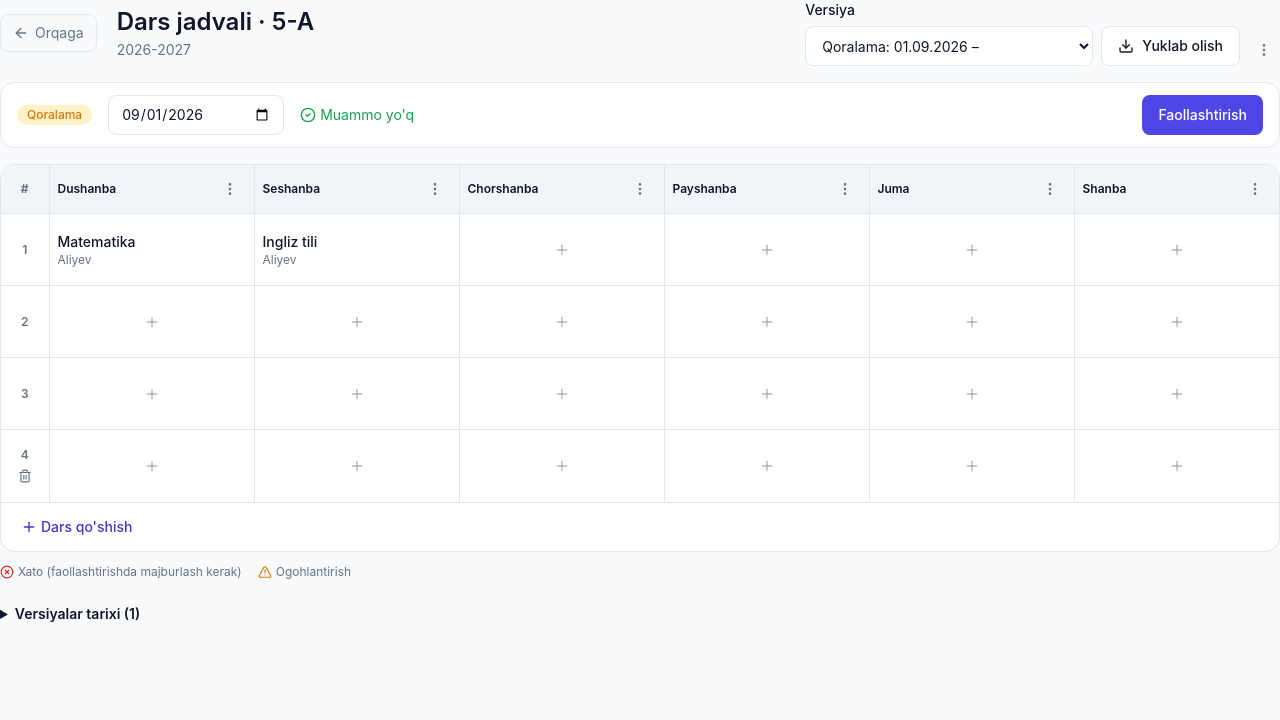
Test: ClassTimetableView: muammolar › katak oynasi: band o'qituvchi belgilanadi, jonli xato bir marta chiqadi
The image size is (1280, 720).
Click the button with test id "cell-3-1": (562, 250) 460,214 -> 664,285
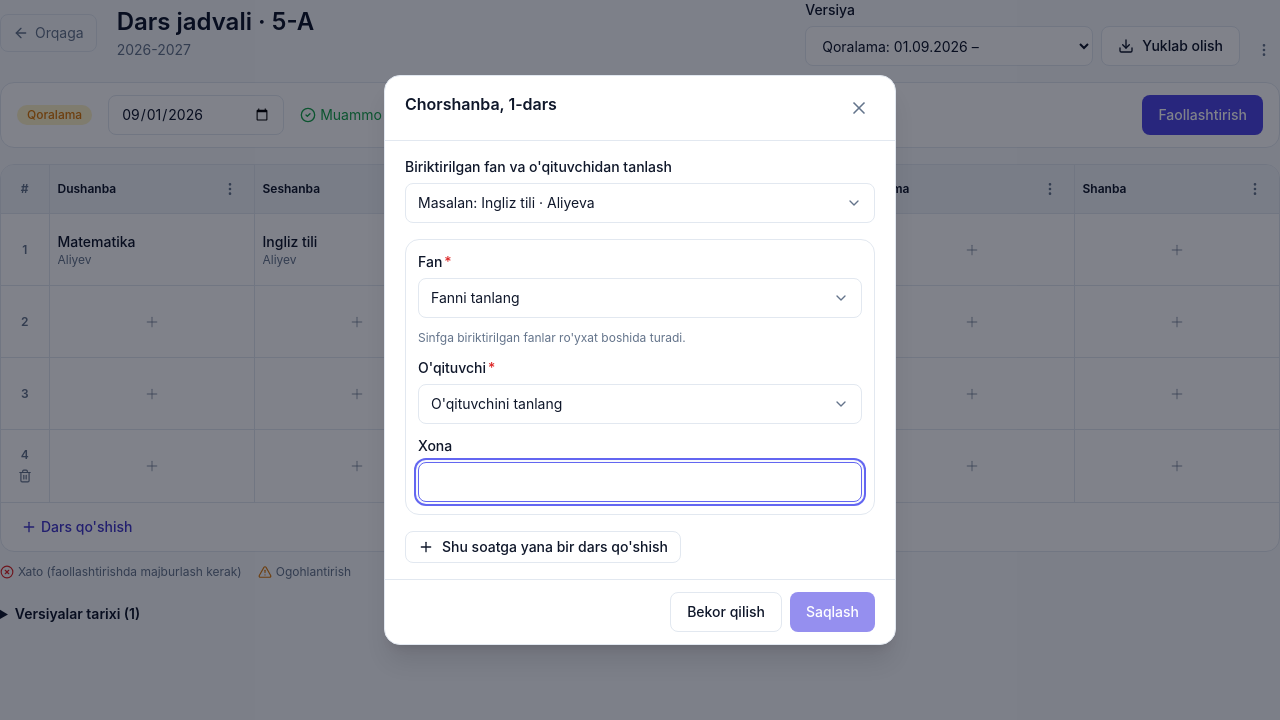
Click the dropdown labelled "Fanni tanlang": (475, 298) 418,278 -> 862,318
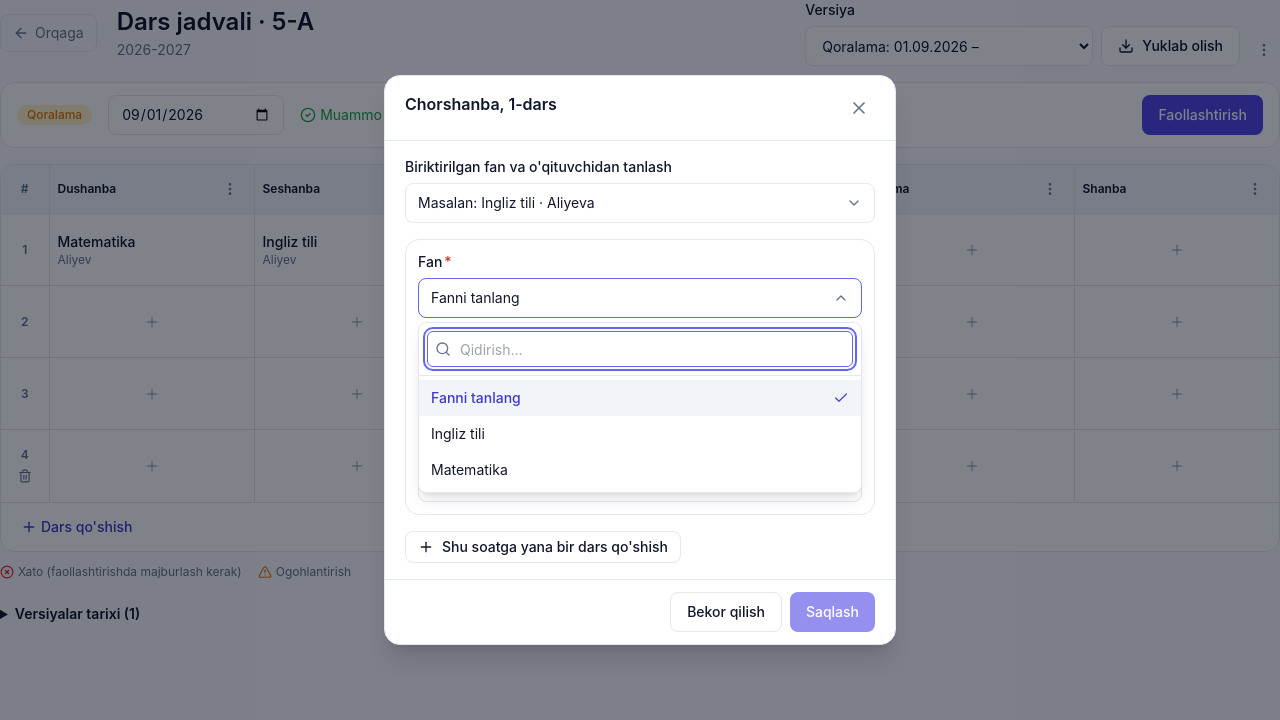
Click the option "Ingliz tili": (458, 434) 431,425 -> 485,442
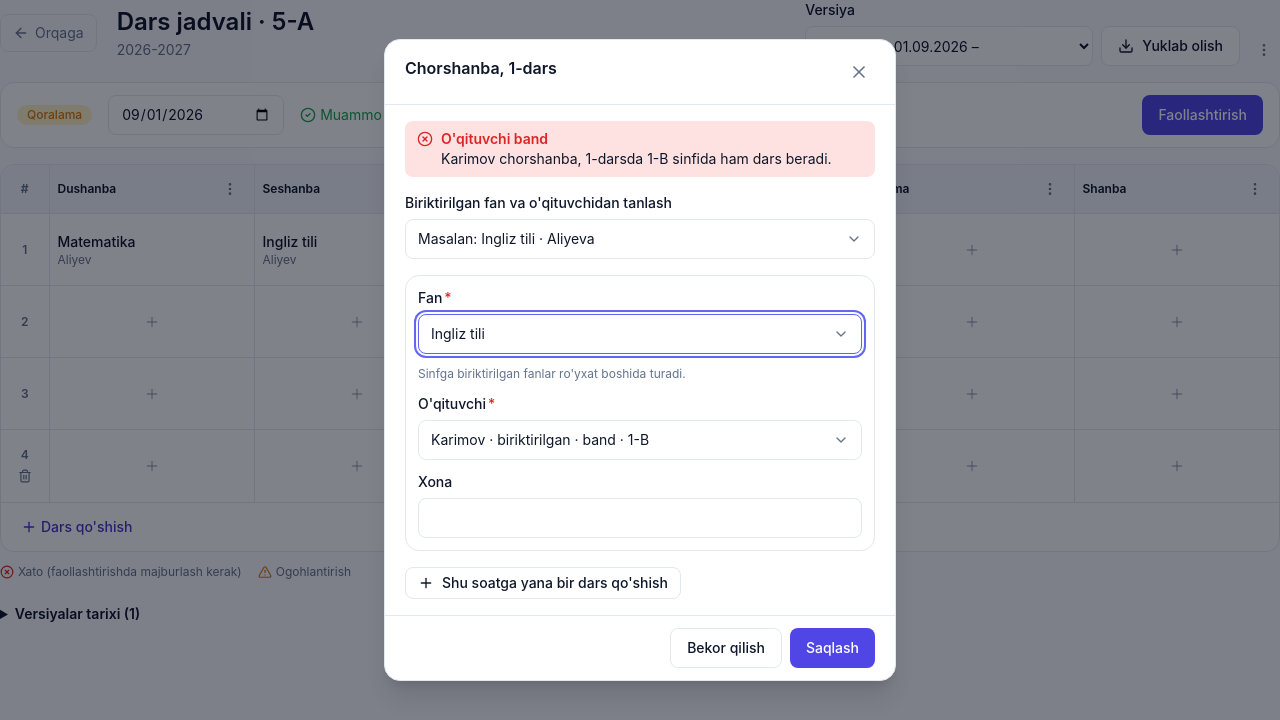
Now the list item shows "Karimov chorshanba, 1-darsda 1-B sinfida ham dars beradi.", box 441,150 -> 832,167
Now the form with test id "cell-editor" shows "band · 1-B", box 418,420 -> 862,460
